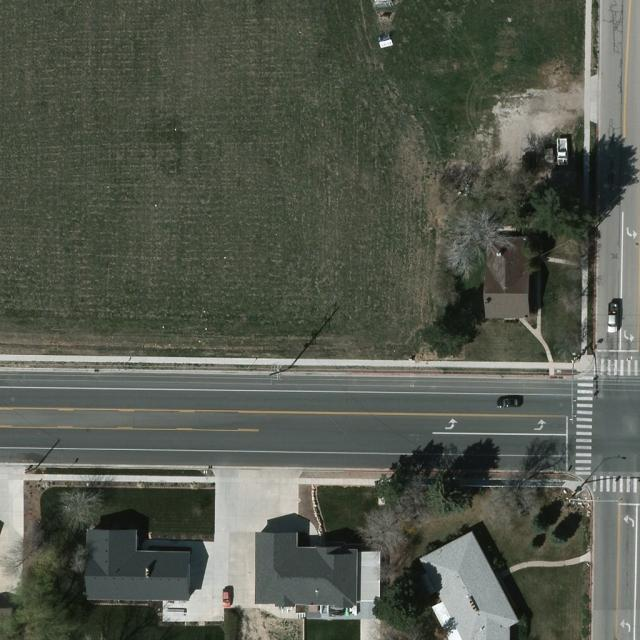vehicle: (606, 302, 620, 335), (556, 136, 569, 166), (498, 398, 520, 408), (223, 588, 231, 608)
